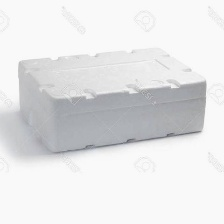foam_box: (14, 41, 211, 157)
